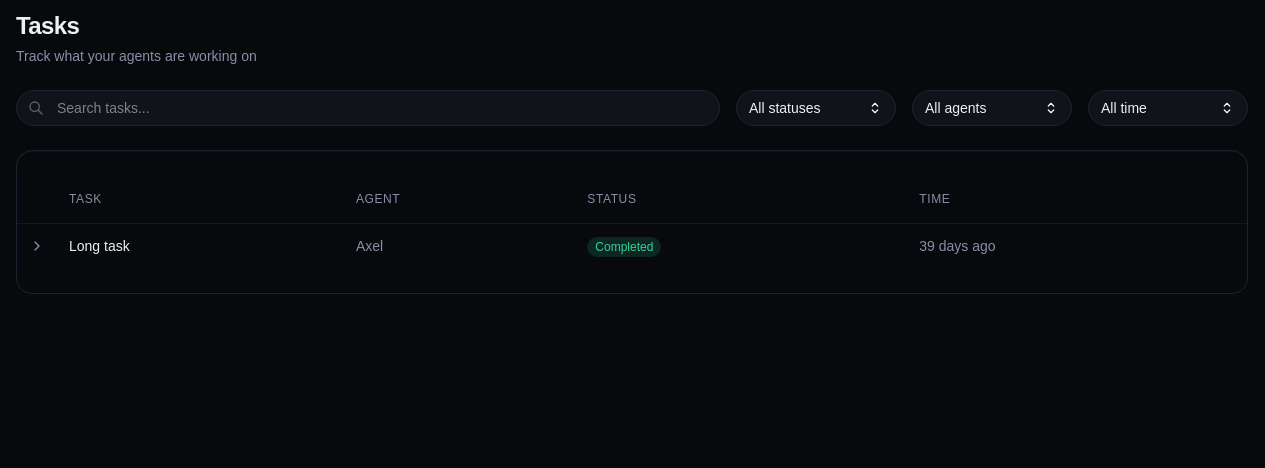
Tasks page › renders detail duration from task created→updated (not from latest event)
The width and height of the screenshot is (1265, 468).
Click the text "Long task" at (99, 246), box [57, 223, 344, 268]
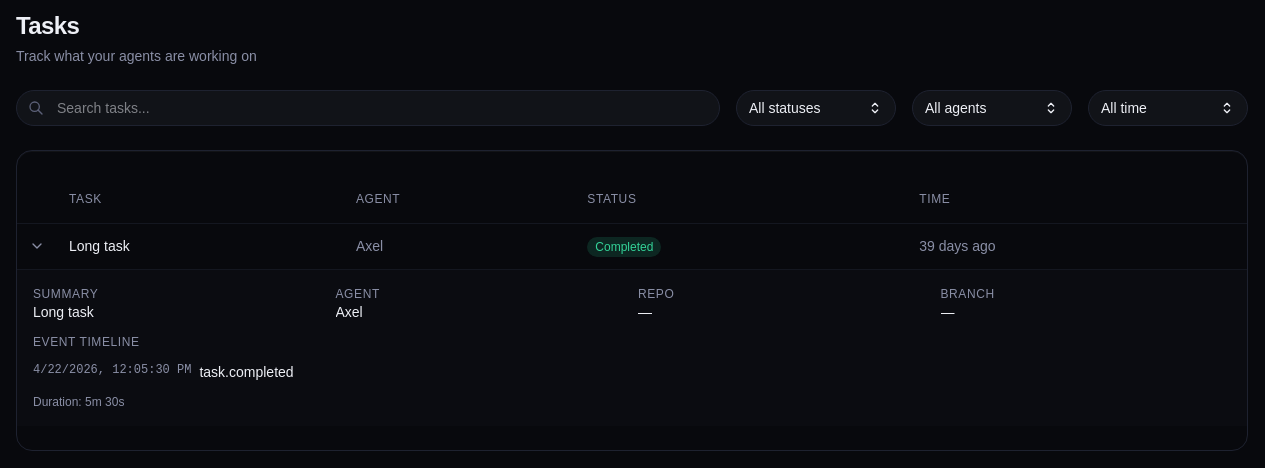
Now the text "task.completed" is shown, box [199, 362, 294, 382]
Now the text "Duration: 5m 30s" is shown, box [33, 394, 124, 408]
